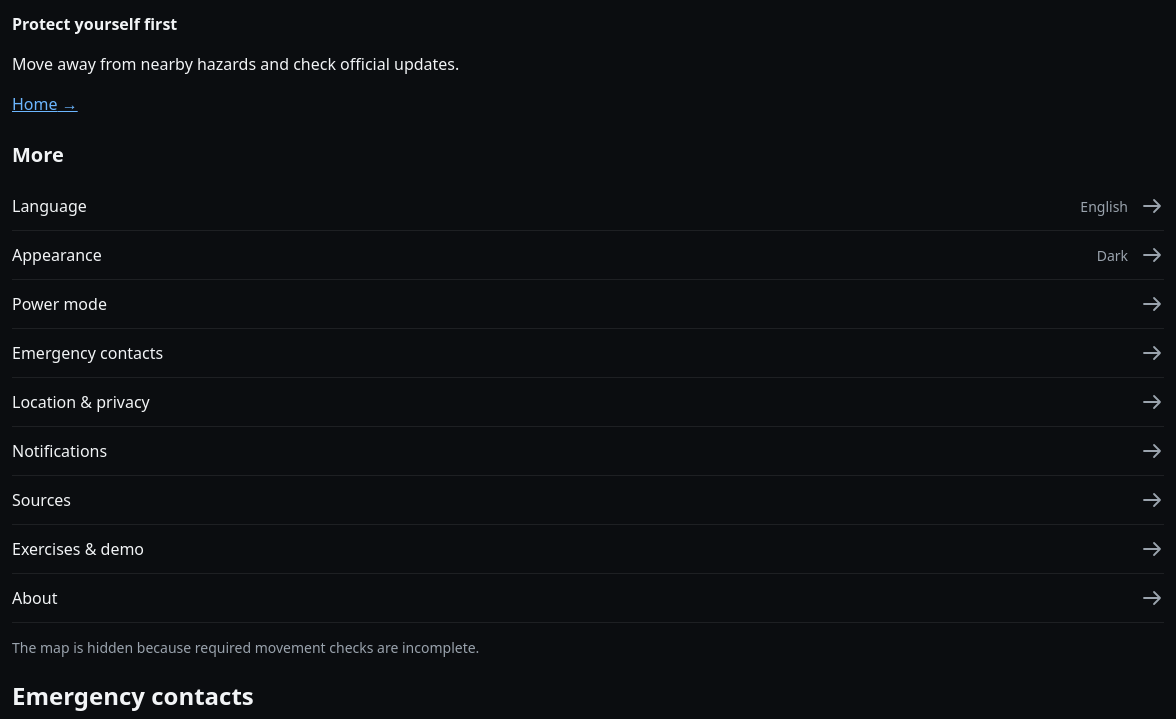
Test case: mobile More and Plan navigation › keeps More compact: nine rows, no card or footer on the list, emergency numbers under About
Click the button with class "ui-row" showing "Location & privacy" at (81, 402), box [12,378,1164,427]
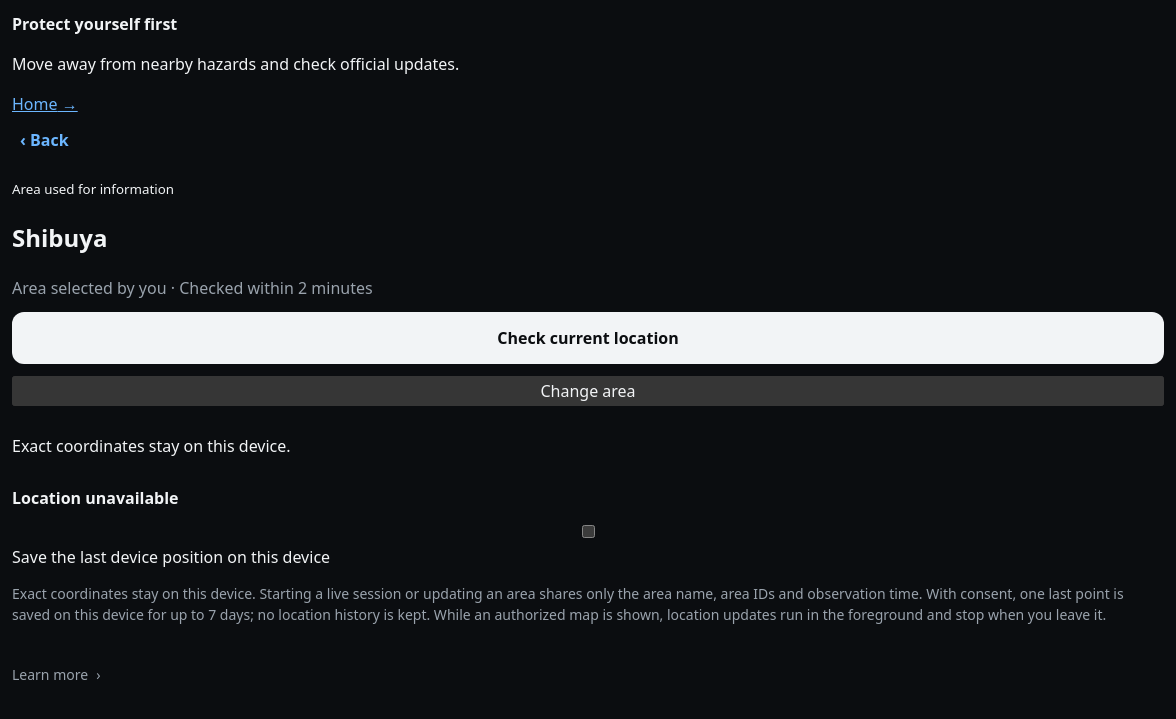
Result: the text "Area selected by you" is shown at [11,277,373,310]
Click the button with class "ui-btn-secondary" at (44, 140), box [12,116,77,164]
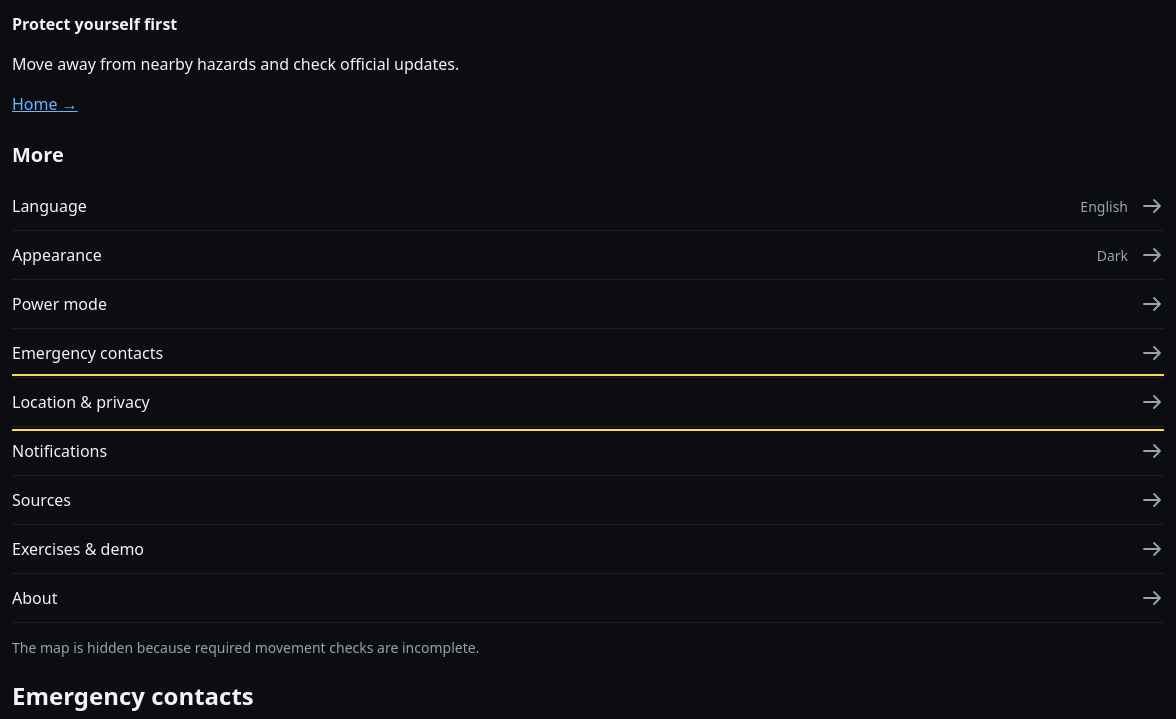
Result: the button with class "ui-row" showing "About" is shown
Click the button with class "ui-row" showing "About" at (35, 598), box [12,574,1164,623]
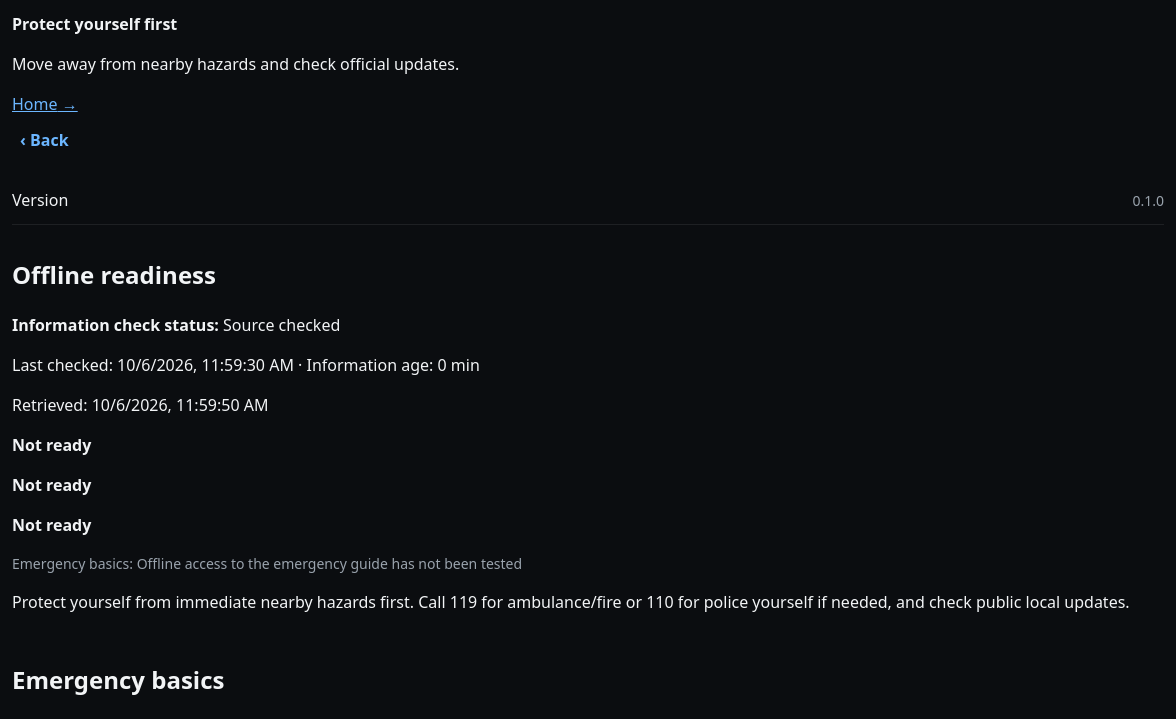
Expected: the button "Check current location" is not shown
Result: the text "Emergency basics" is shown at [12,554,129,573]
Result: the text with class "ui-row-value" reads "0.1.0" at [1132,190,1164,210]
